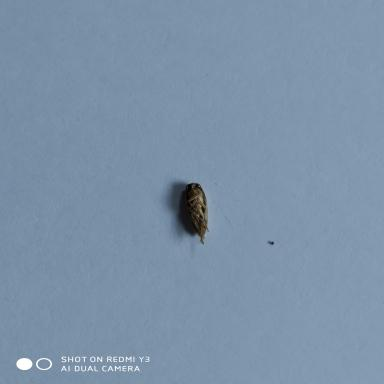pbw: (172, 178, 223, 244)
